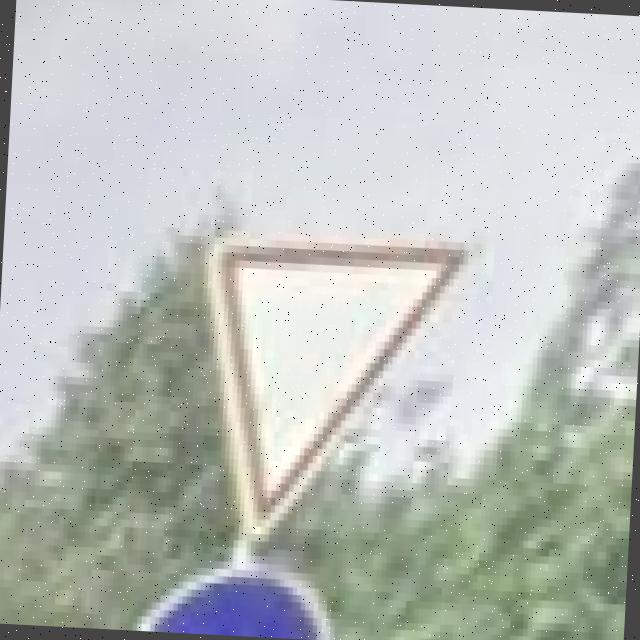Ustap pierwszenstwa: (190, 222, 482, 560)
